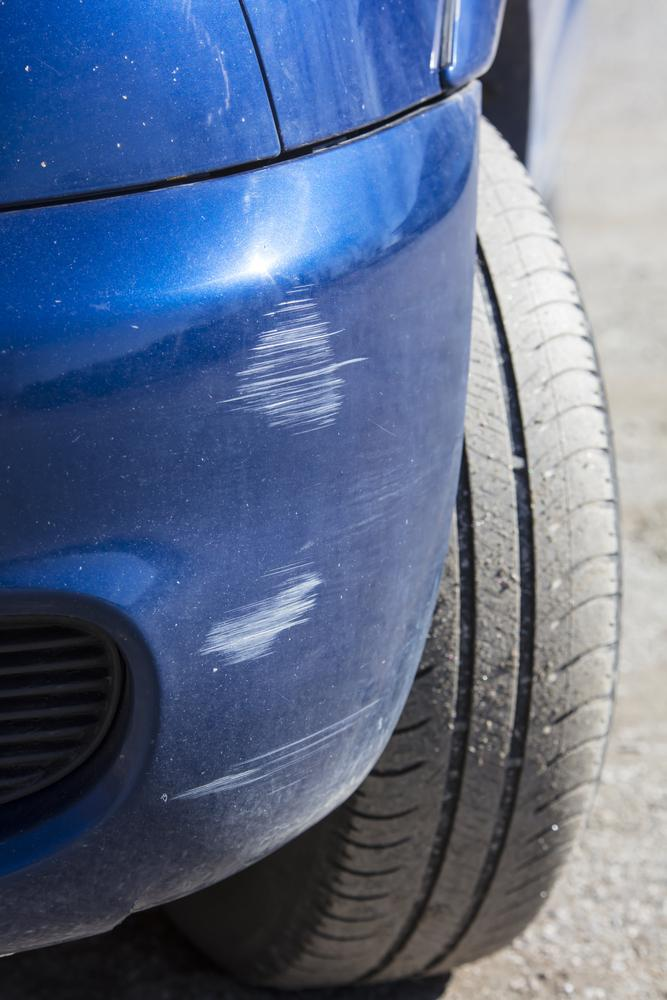scratch: (167, 685, 385, 802), (224, 271, 368, 438), (198, 538, 325, 669)
